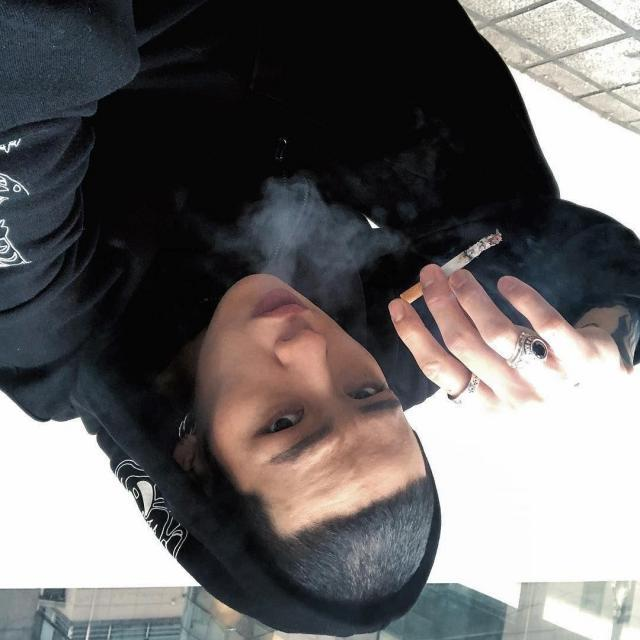cigarette: (387, 216, 521, 312)
